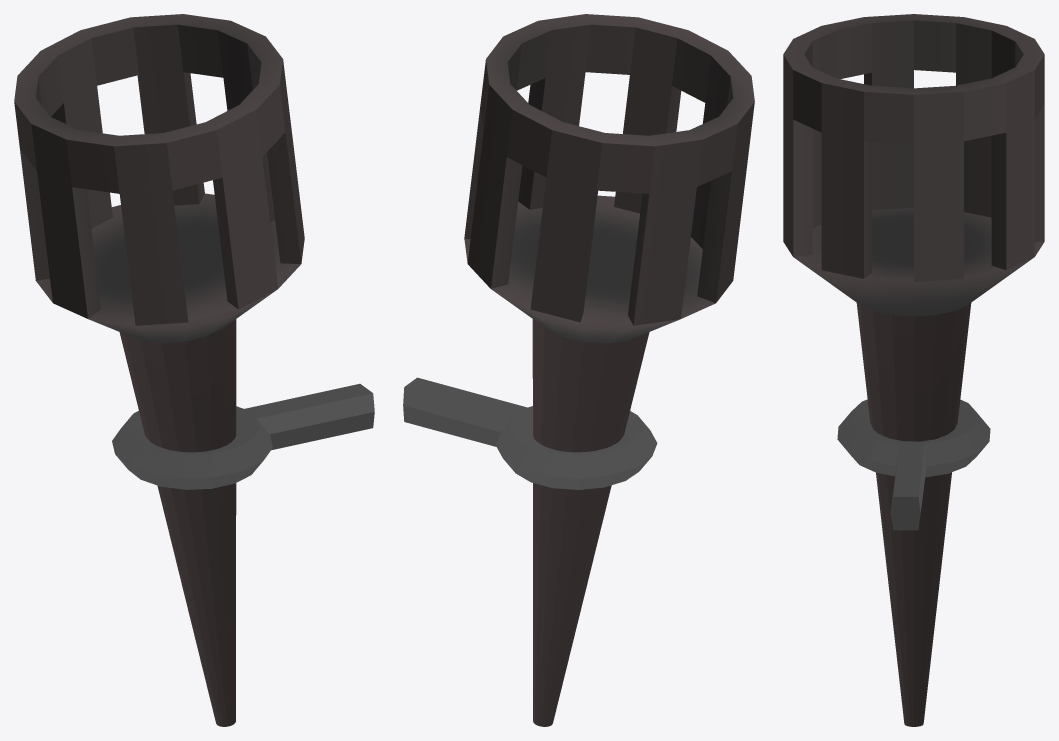
Rendered from Cave_Torch 1.fbx.
The picture shows the model from 3 angles, left to right: view 1: azimuth 30°, elevation 25°; view 2: azimuth 150°, elevation 25°; view 3: azimuth 270°, elevation 25°; orthographic projection. The views are drawn at different scales.
Visible parts, largest first — view 1: Cylinder; view 2: Cylinder; view 3: Cylinder.
Part boxes in pixels (x1=…): Cylinder: x1=14, y1=14, x2=374, y2=726; Cylinder: x1=403, y1=14, x2=754, y2=726; Cylinder: x1=783, y1=14, x2=1044, y2=726.
Bounding box in the file's own units: 9.52 × 18.6 × 6.8.
